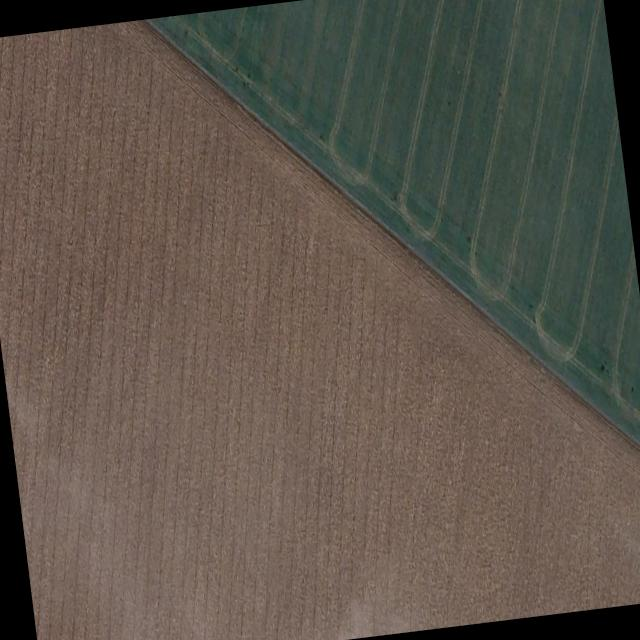bare-soil: (0, 20, 640, 640)
grass: (138, 0, 640, 454)
